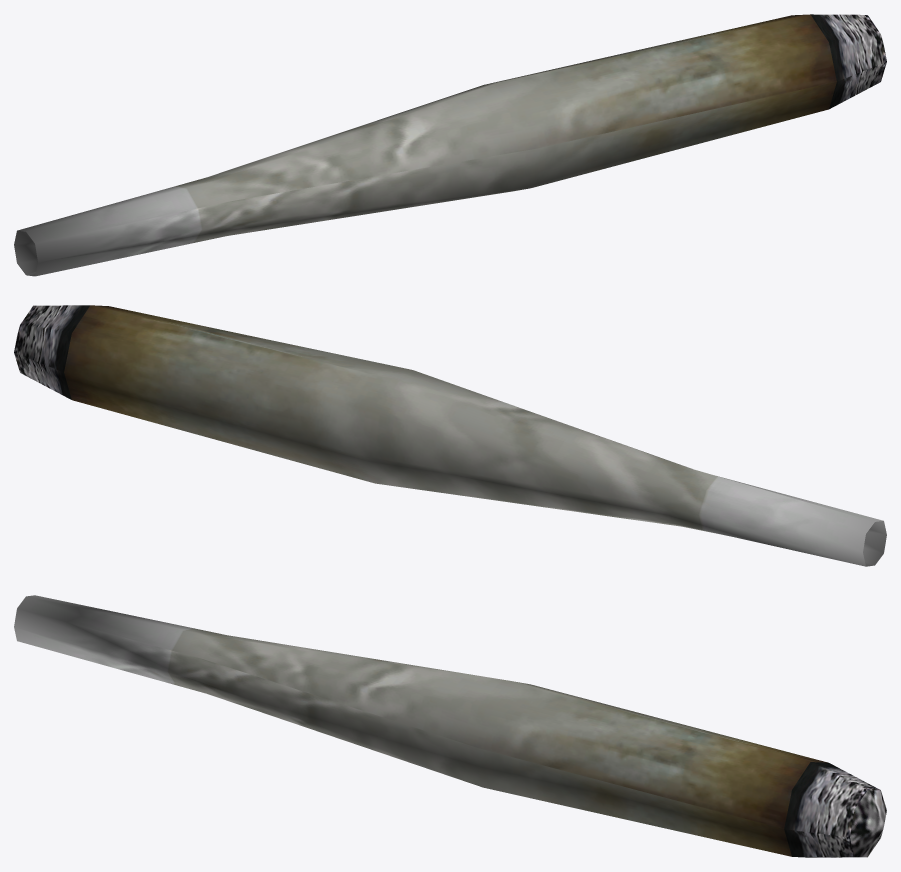
Rendered from drug_joint.glb.
3 renders of one model, top to bottom at view 1: azimuth 30°, elevation 25°; view 2: azimuth 150°, elevation 25°; view 3: azimuth 330°, elevation 25°, orthographic.
Parts seen in each view (by area): view 1: Fat Joint; view 2: Fat Joint; view 3: Fat Joint.
Boxes of the visible parts, x1=… form: Fat Joint: x1=14, y1=14, x2=886, y2=276; Fat Joint: x1=14, y1=305, x2=886, y2=566; Fat Joint: x1=14, y1=595, x2=886, y2=857.
Bounding box in the file's own units: 0.0786 × 0.00902 × 0.00902.
Materials: 1 (1 with a texture image).
